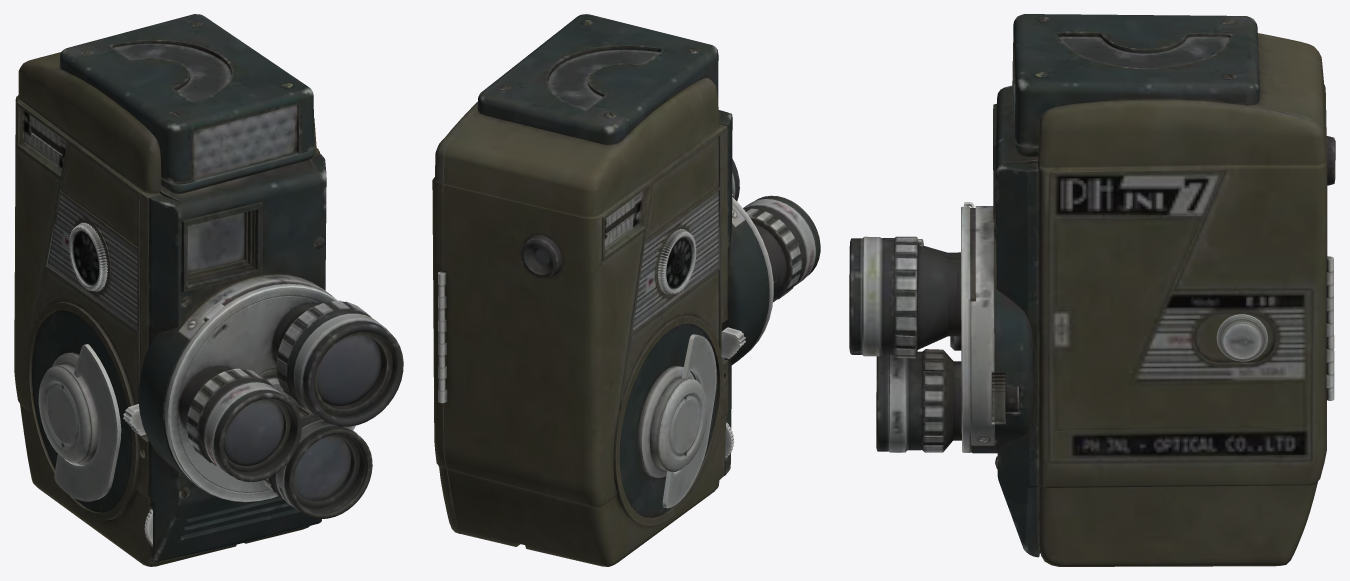
File: vintage_video_camera.glb
The picture shows the model from 3 angles, left to right: view 1: azimuth 30°, elevation 25°; view 2: azimuth 150°, elevation 25°; view 3: azimuth 270°, elevation 25°; orthographic projection. The views are drawn at different scales.
Parts seen in each view (by area): view 1: vintage_video_camera; view 2: vintage_video_camera; view 3: vintage_video_camera.
Part boxes in pixels (<box>): vintage_video_camera: <box>14,14,403,566</box>; vintage_video_camera: <box>432,14,820,566</box>; vintage_video_camera: <box>849,14,1335,566</box>.
Bounding box in the file's own units: 0.0712 × 0.145 × 0.1326.
Materials: 2 (2 with a texture image).
